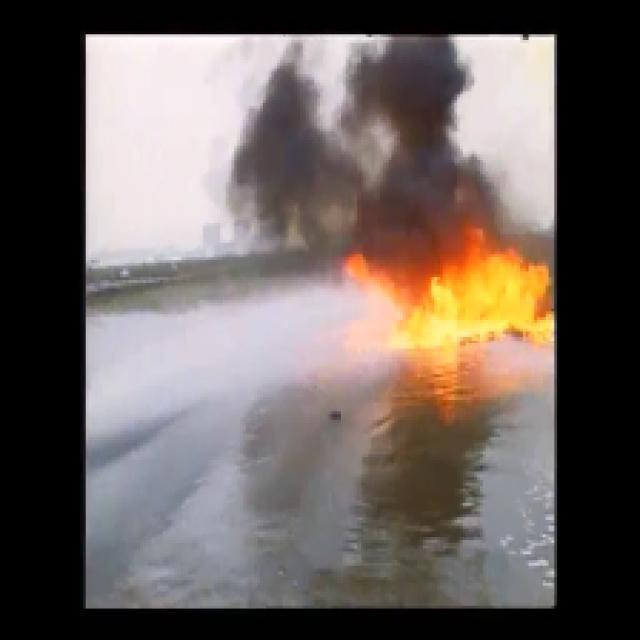Fire: (383, 256, 554, 354)
Smoke: (238, 40, 498, 234)
